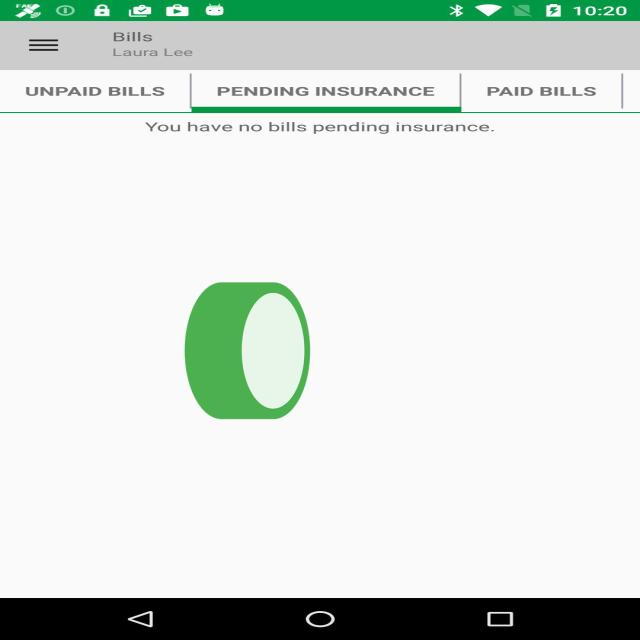social proof: (179, 230, 316, 482)
